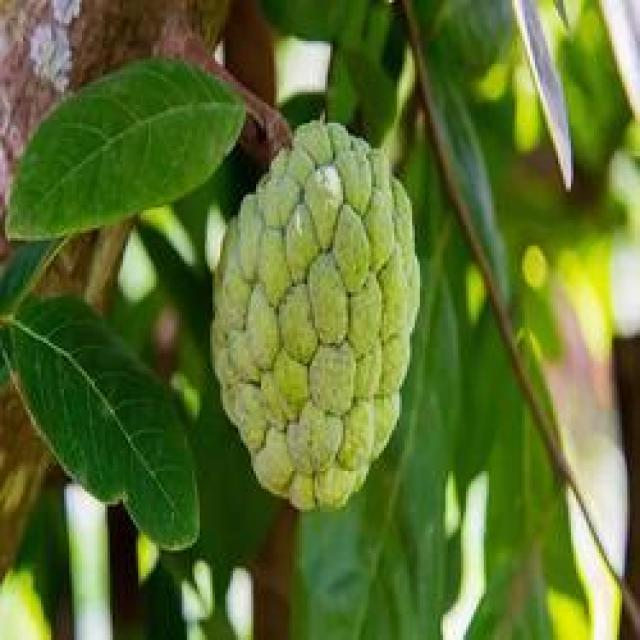apple: (205, 112, 427, 520)
